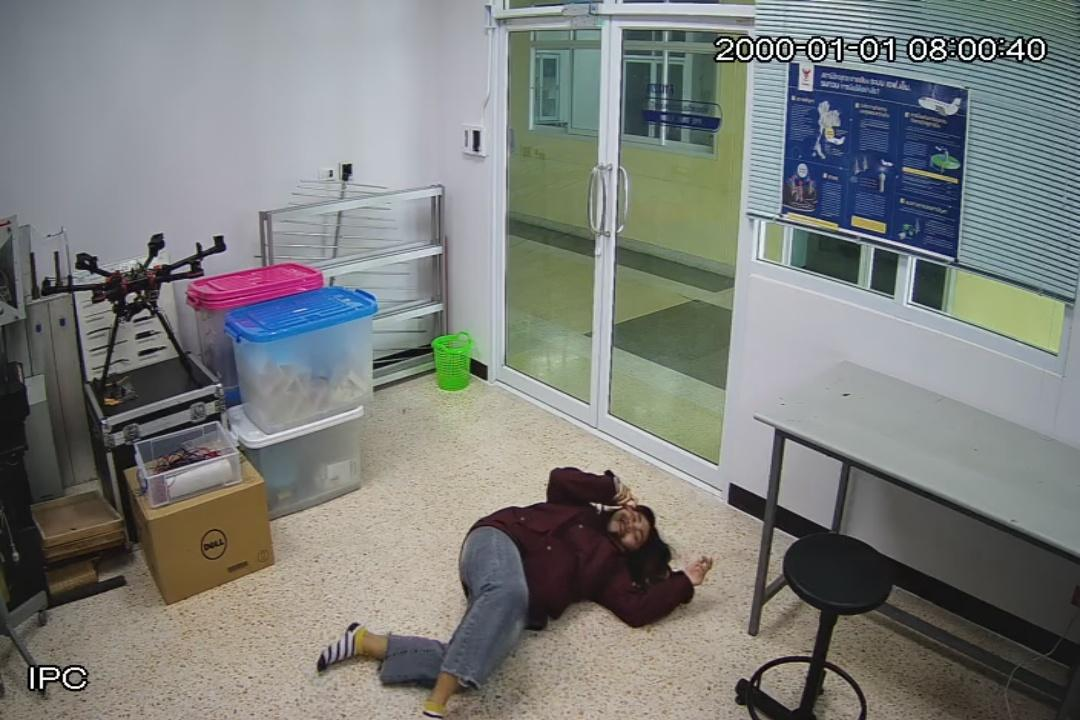fall: (316, 460, 706, 720)
